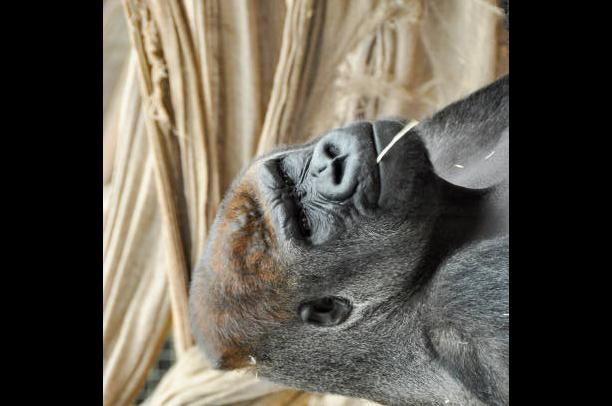gorille_Autres: (167, 53, 508, 406)
